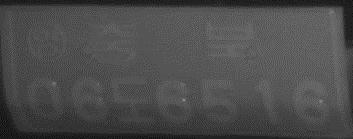0: (26, 76, 63, 123)
1: (247, 74, 284, 127)
5: (199, 78, 238, 126)
6: (291, 76, 330, 128), (71, 75, 106, 125), (156, 78, 191, 126)
도: (109, 73, 154, 125)
영: (24, 19, 67, 62)
충북_D: (89, 18, 257, 72)
